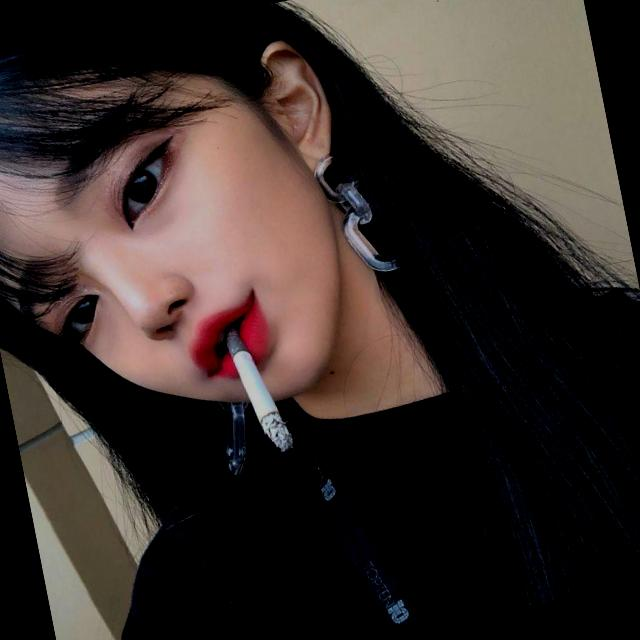smoke: (200, 290, 326, 482)
